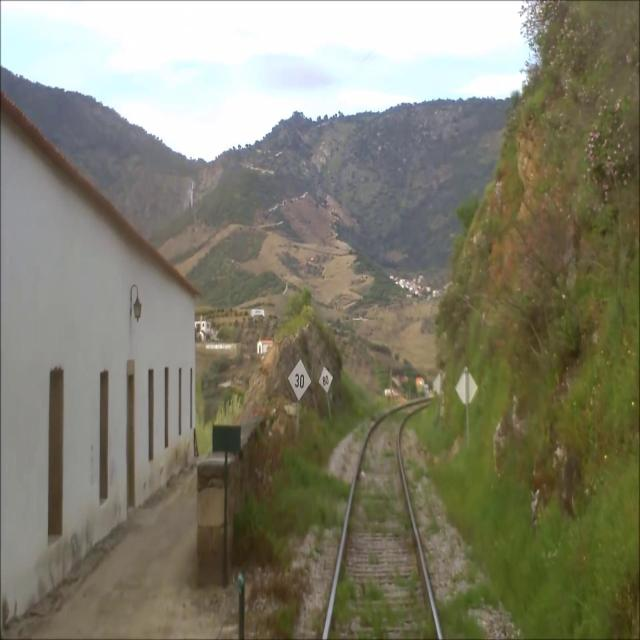rail-track: (328, 408, 437, 639)
